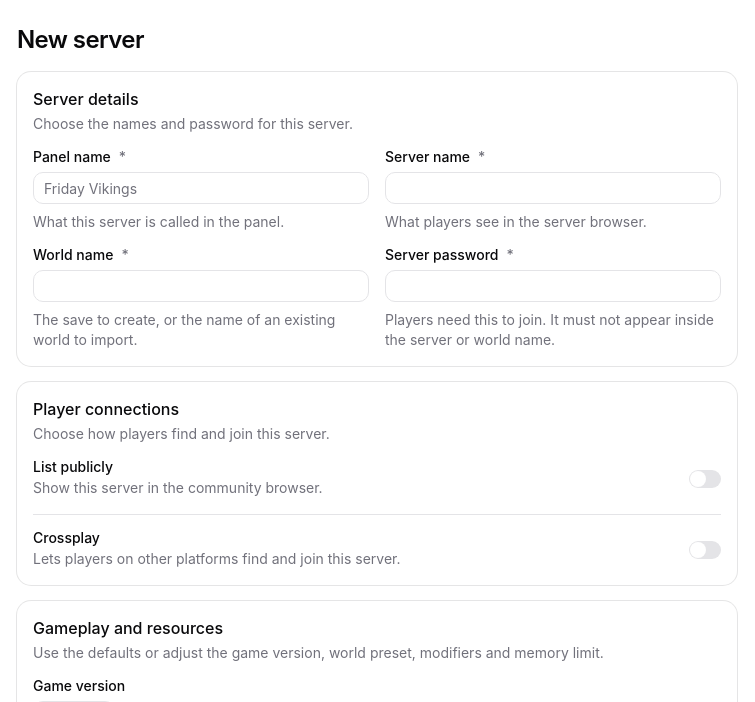
Test: the create wizard › shows the provisioning job and leaves only once it has succeeded
This screenshot has width=755, height=702.
In the field labelled "Panel name *": (201, 188) [33,172,369,204], type "friday"
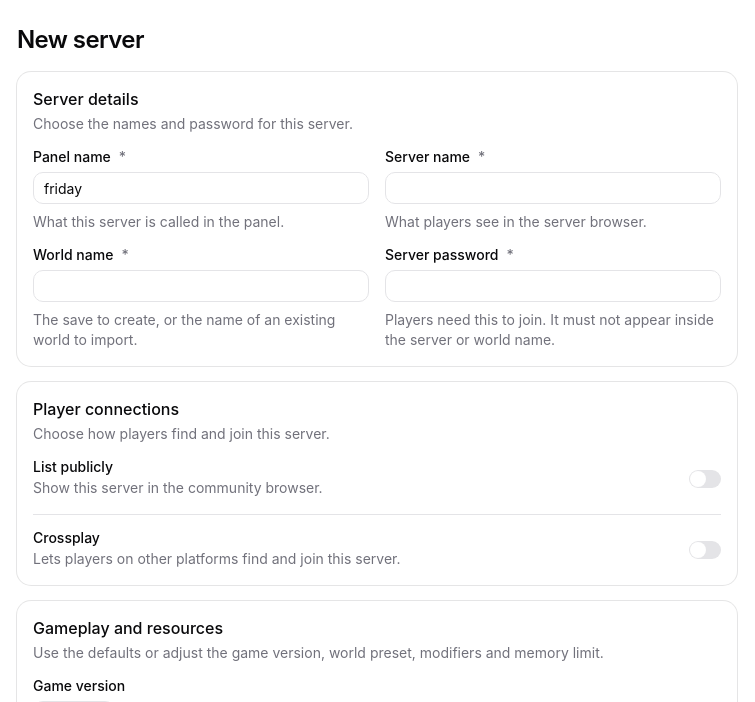
In the field labelled "Server name *": (553, 188) [385,172,721,204], type "Friday Vikings"
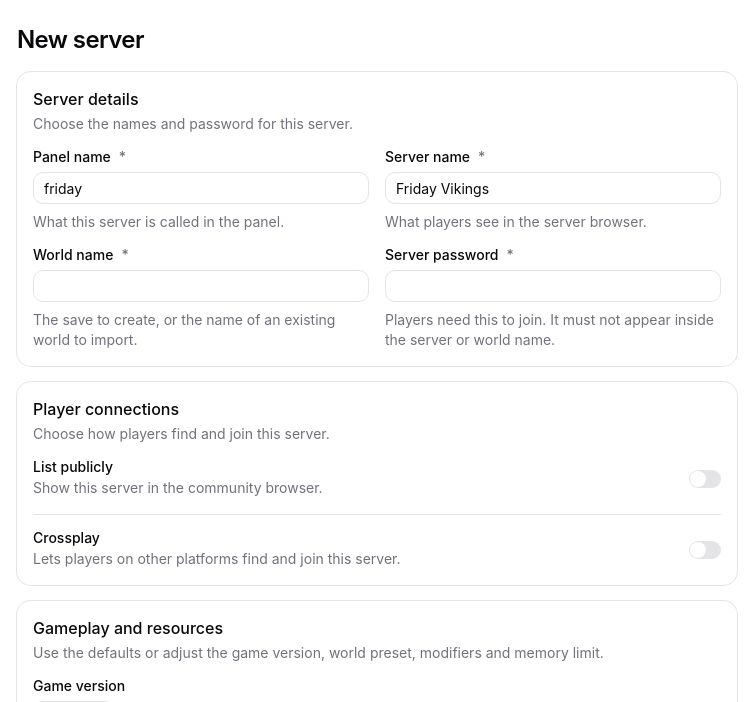
In the field labelled "World name *": (201, 286) [33,270,369,302], type "Midgard"
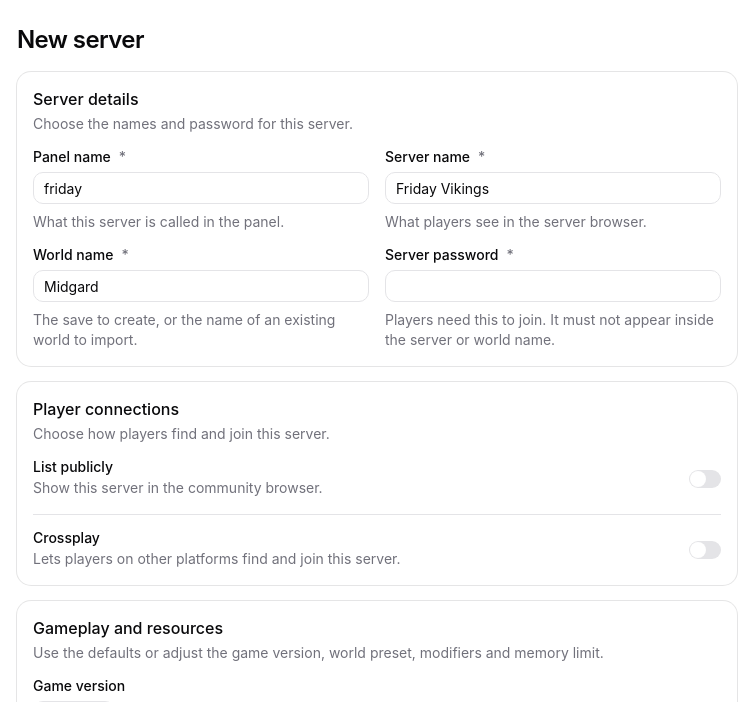
In the password field labelled "Server password *": (553, 286) [385,270,721,302], type "correct-horse"
(page scrolled)
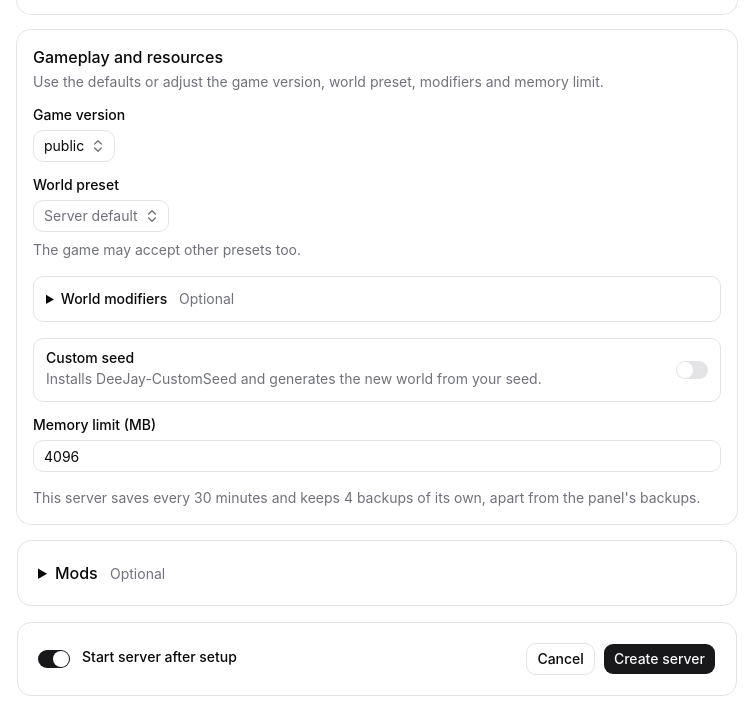
Click the button "Create server": click(659, 659) [603,643,716,675]
(page scrolled)
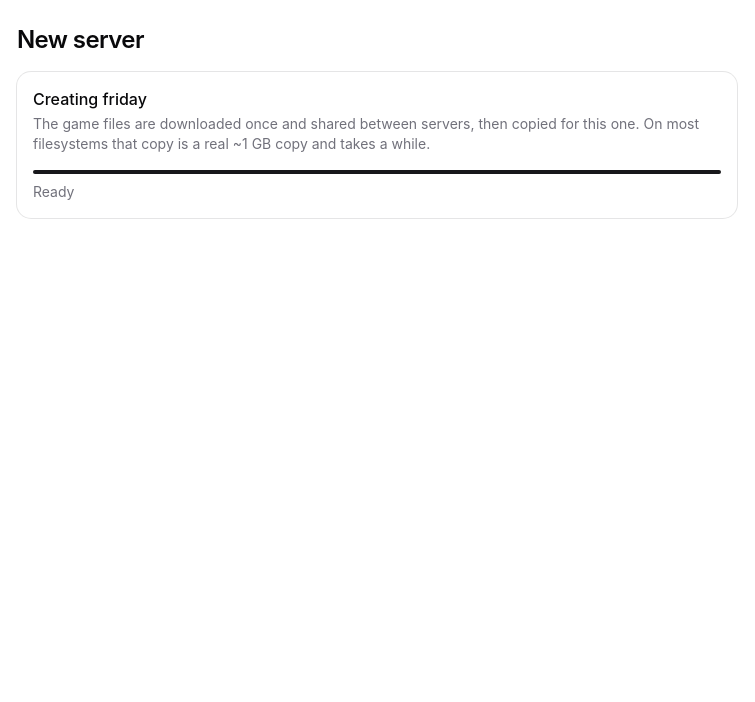
Expected: the text "Copying game files" is shown, [33,183,74,200]
